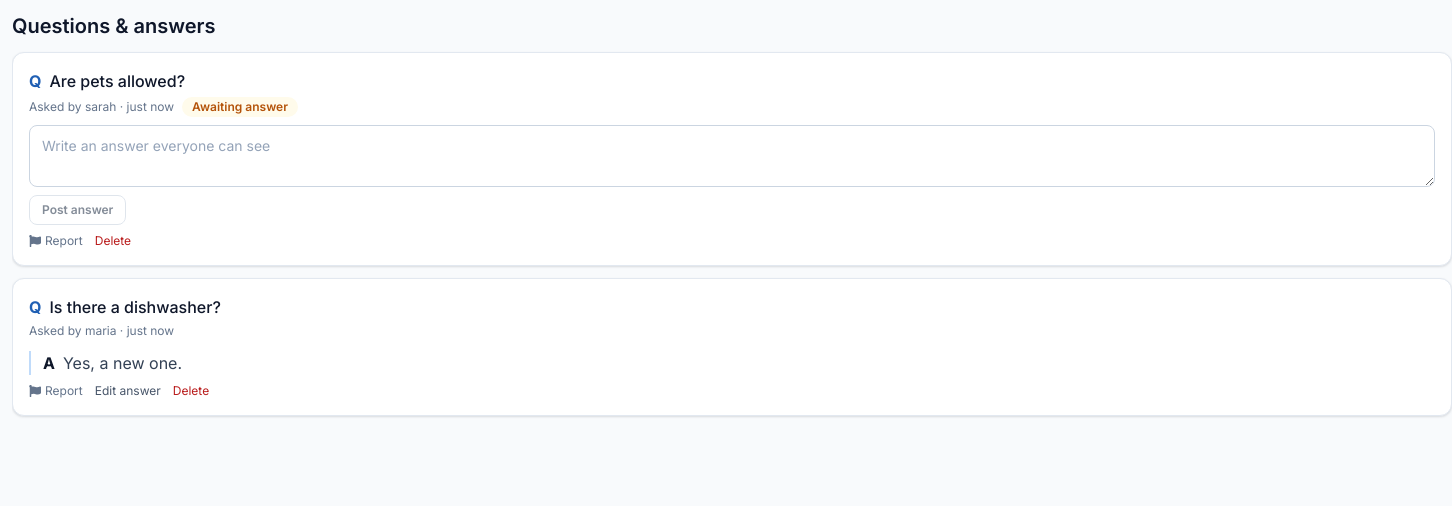
Test: ListingQuestions › lets the owner answer pending questions and edit answers
Type "Cats only." into the text box named "Answer to: Are pets allowed?". click: coordinates (732, 156)
box: [29,125,1435,187]
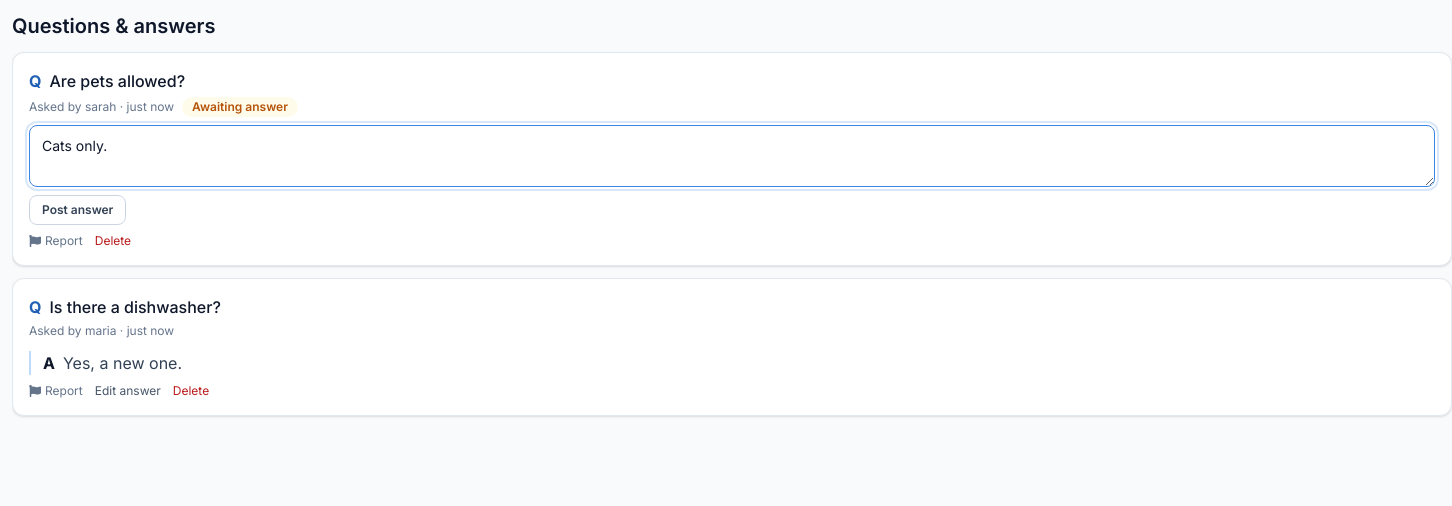
Click the button "Post answer". click: coordinates (78, 210)
box: [29,195,126,225]
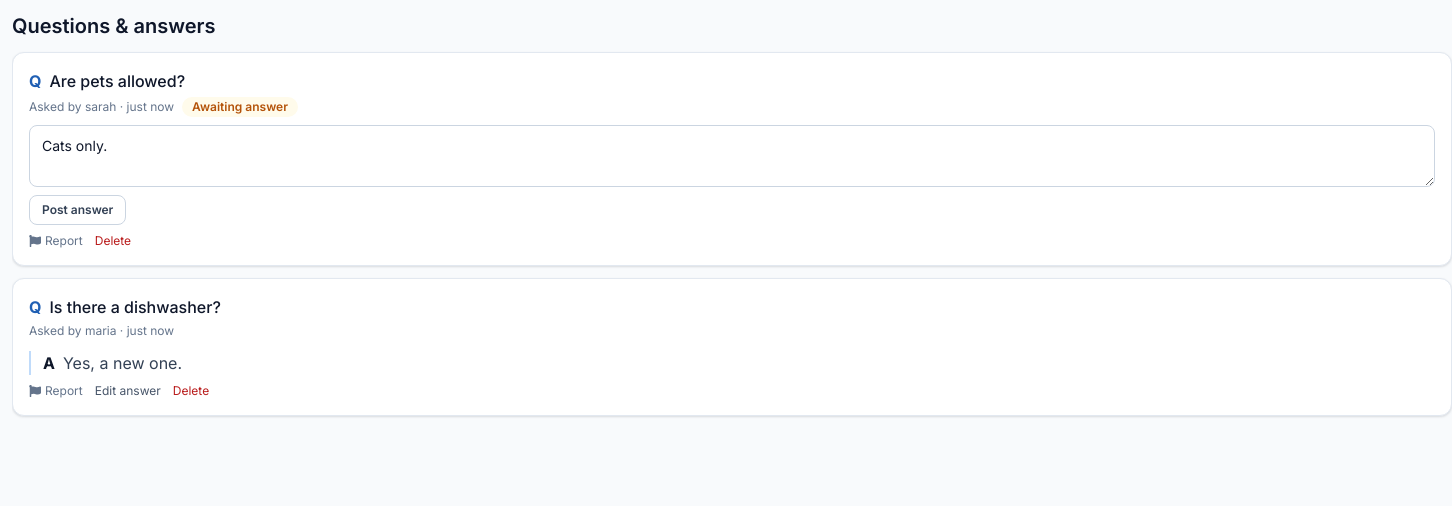
Click the button "Edit answer". click: coordinates (128, 391)
box: [95,383,161,399]
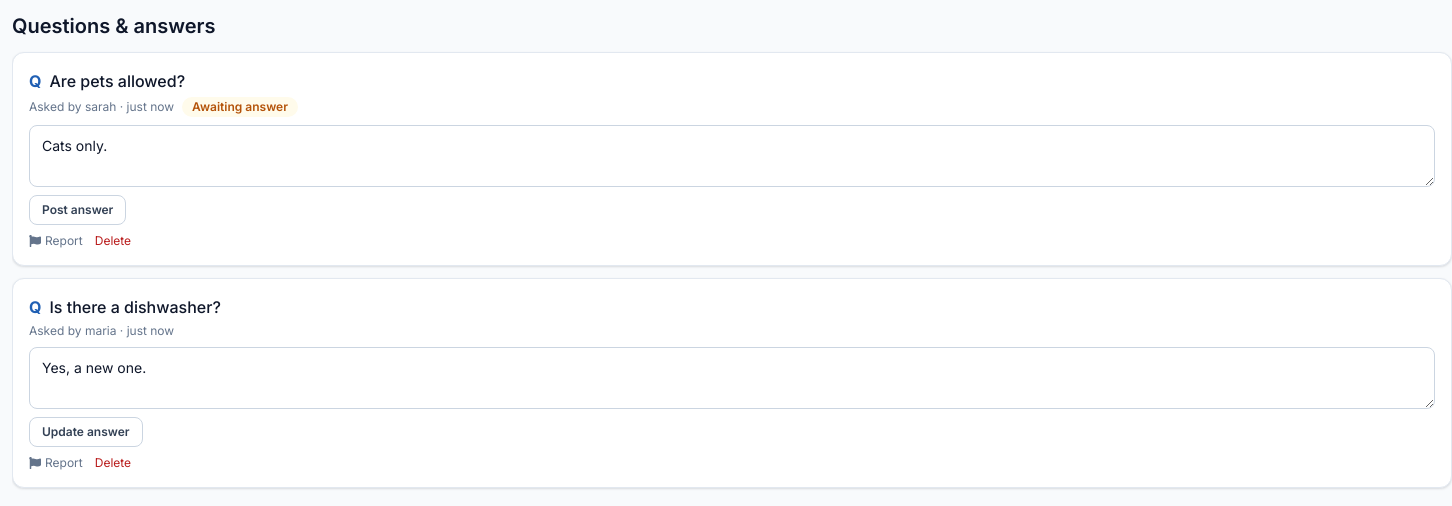
Now the text box named "Answer to: Is there a dishwasher?" holds "Yes, a new one.", box [29,347,1435,409]
